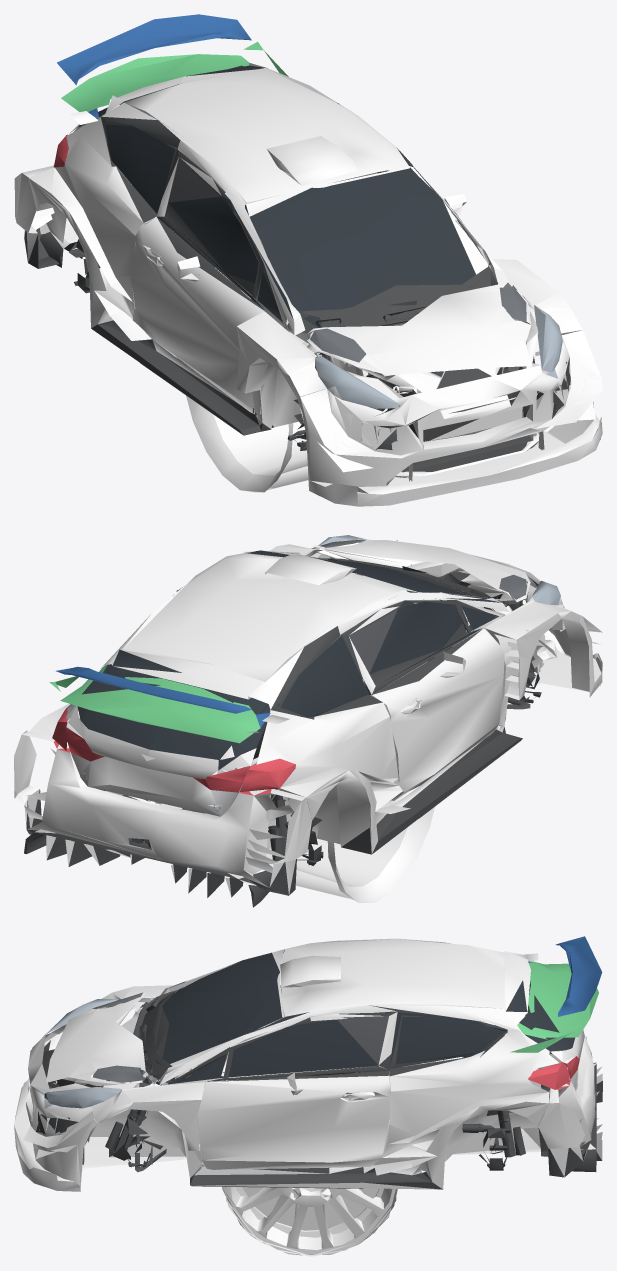
Rendered from fiesta_park.glb.
3 renders of one model, top to bottom at view 1: azimuth 30°, elevation 25°; view 2: azimuth 150°, elevation 25°; view 3: azimuth 270°, elevation 25°, orthographic. The views are drawn at different scales.
Visible parts, largest first — view 1: lod0, rim0; view 2: lod0, rim0, rim2; view 3: lod0, rim0, rim1.
Boxes of the visible parts, x1=… form: lod0: x1=14, y1=14, x2=602, y2=506; rim0: x1=186, y1=289, x2=308, y2=492; lod0: x1=14, y1=535, x2=602, y2=907; rim0: x1=212, y1=757, x2=434, y2=902; rim2: x1=268, y1=685, x2=365, y2=897; lod0: x1=14, y1=936, x2=602, y2=1191; rim0: x1=222, y1=1079, x2=395, y2=1255; rim1: x1=224, y1=1157, x2=397, y2=1256.
Size of what is drawn, in the model's own units: 1.9 by 2 by 4.07.
